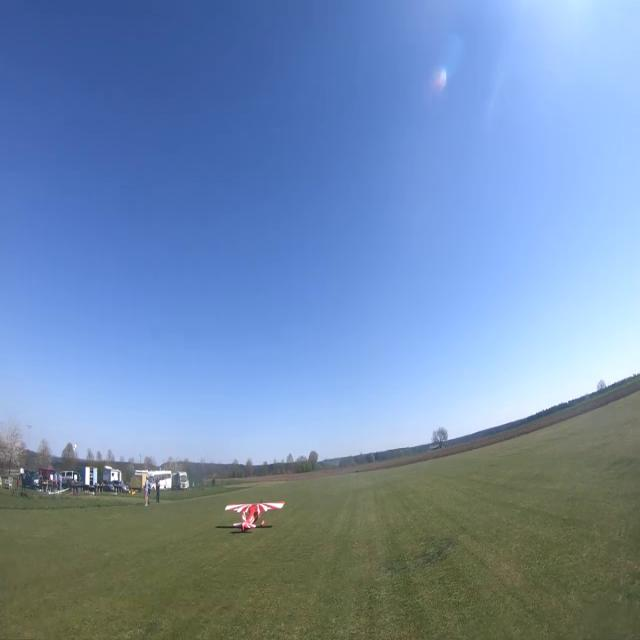iha: (223, 501, 283, 530)
